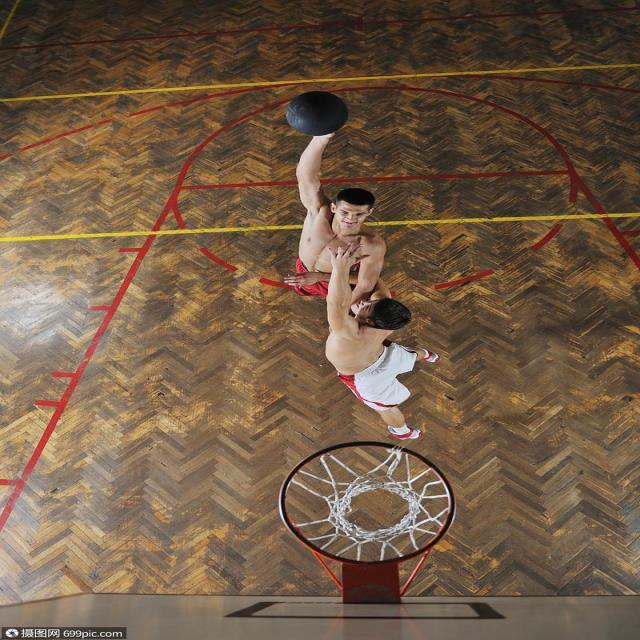rim: (290, 90, 344, 135)
